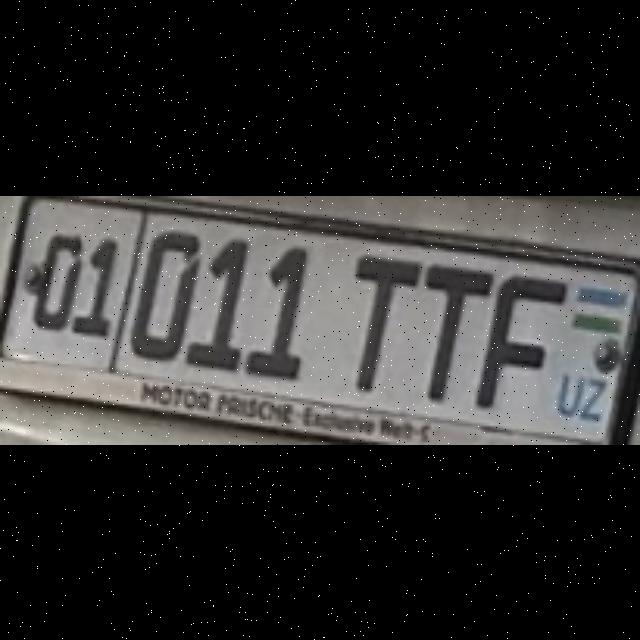0: (125, 226, 197, 358), (31, 230, 81, 326)
1: (240, 242, 306, 372), (181, 233, 243, 367), (72, 232, 112, 330)
F: (468, 267, 562, 411)
T: (422, 261, 491, 401), (353, 252, 415, 388)
